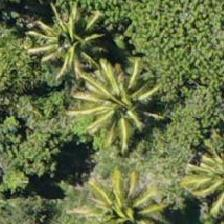coconut_tree: (75, 56, 165, 146), (20, 0, 110, 80), (74, 169, 164, 223)
